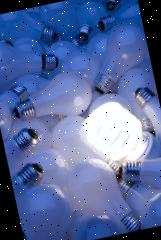lightbulb: (0, 0, 161, 240), (61, 150, 142, 240), (76, 95, 148, 166)
